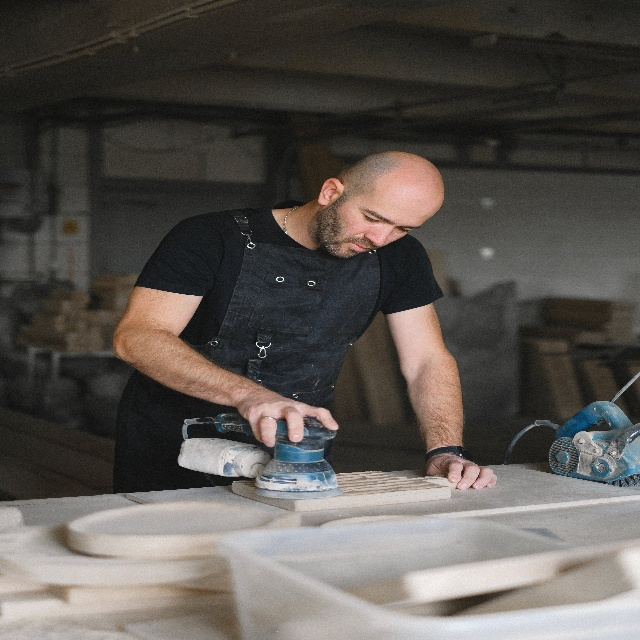Sin_guantes: (238, 380, 339, 448), (425, 448, 498, 493)
